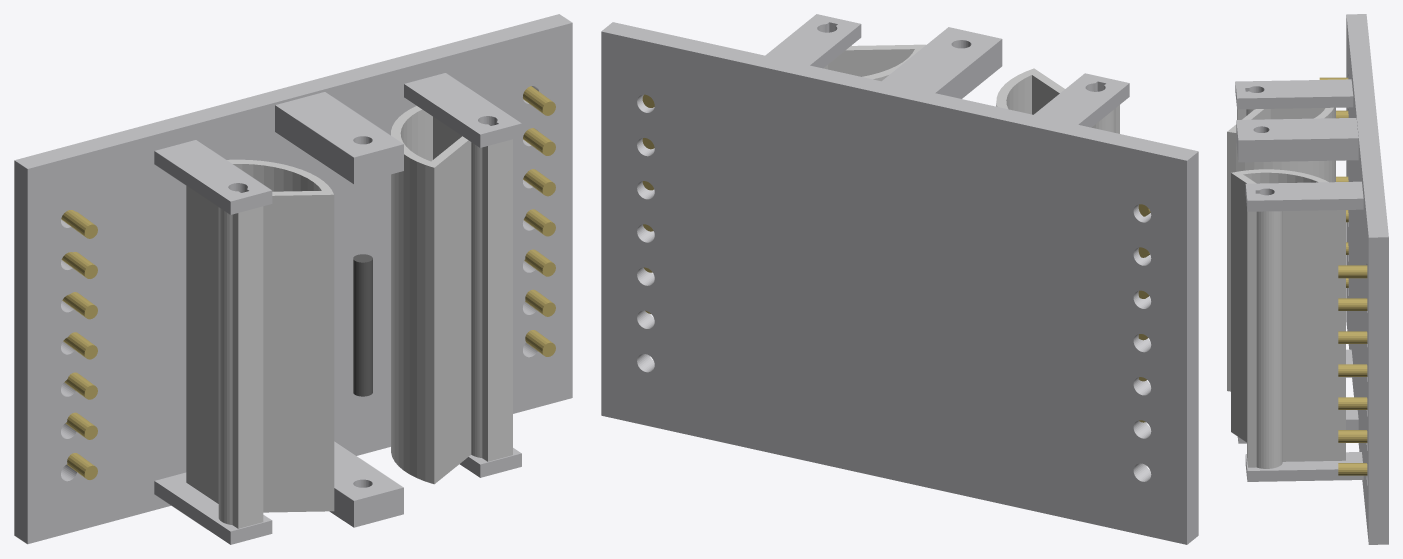
The model's file is foot.glb.
The picture shows the model from 3 angles, left to right: view 1: azimuth 30°, elevation 25°; view 2: azimuth 150°, elevation 25°; view 3: azimuth 270°, elevation 25°; orthographic projection. The views are drawn at different scales.
Parts seen in each view (by area): view 1: world; view 2: world; view 3: world.
Boxes of the visible parts, <box> form: world: <box>14,14,572,544</box>; world: <box>601,14,1198,544</box>; world: <box>1227,14,1388,544</box>.
Size of the model in its own units: 0.1665 by 0.1067 by 0.0509.
